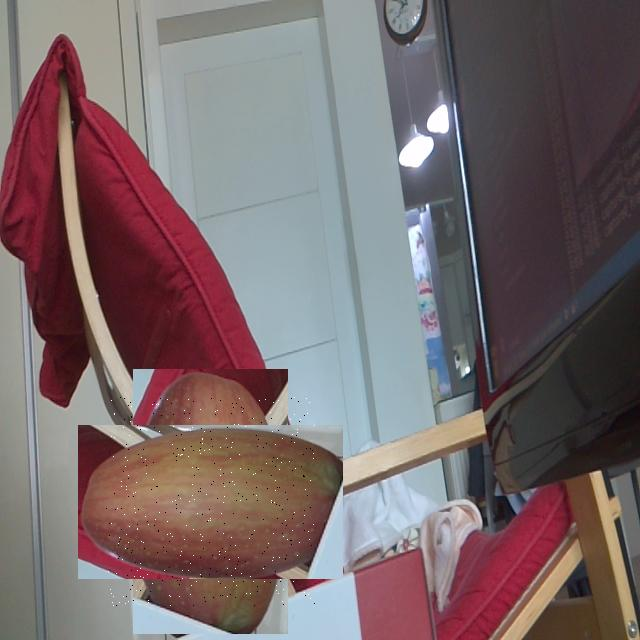apple: (106, 397, 315, 606)
